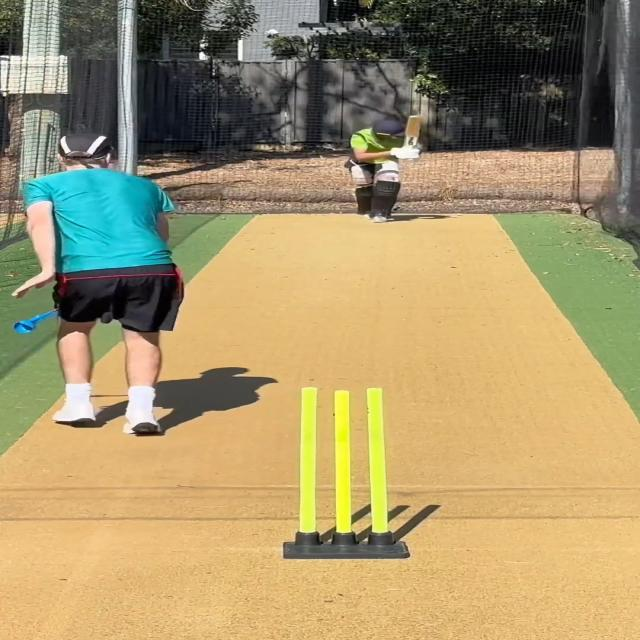stump: (278, 383, 408, 559)
